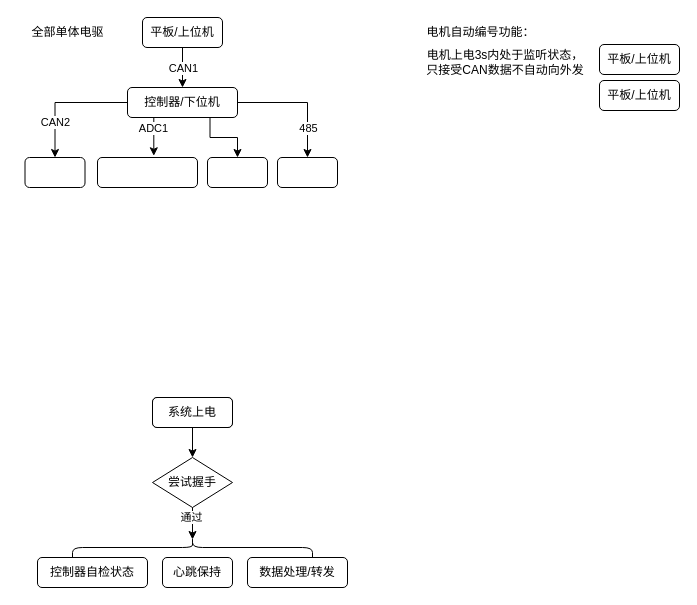
Some shapes in this 697 by 605 pixel diagram are drawn without their labels. The shapes that lost their labels are listed below. From the top down, each one's box as (x1, y1, x2, y2) in pixels, then its label:
(24, 156, 85, 188): 单体电驱
(96, 156, 198, 188): 接近开关（起落）
(206, 156, 268, 188): 余料/风压
(276, 156, 338, 188): 探头
